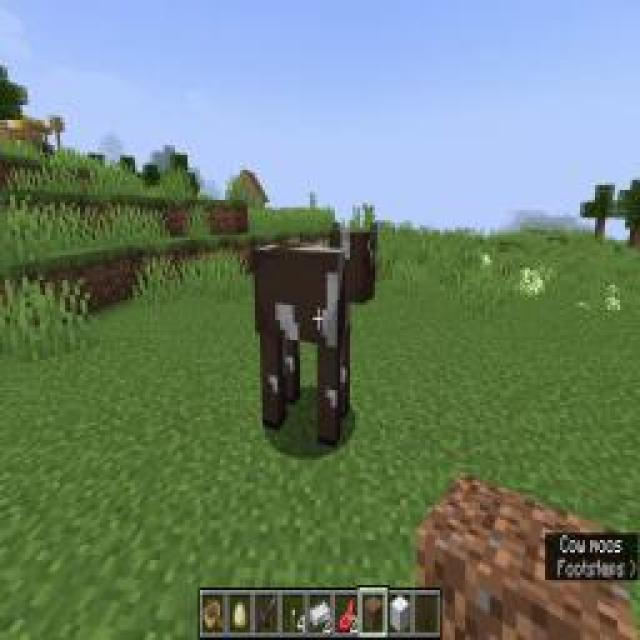Cow: (244, 218, 381, 452)
